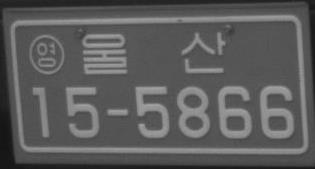-: (104, 107, 129, 118)
1: (28, 85, 59, 138)
5: (64, 84, 101, 139), (134, 85, 171, 139)
6: (257, 84, 295, 139), (216, 84, 252, 140)
8: (174, 84, 211, 139)
영: (28, 34, 65, 75)
울산_D: (82, 30, 225, 76)
